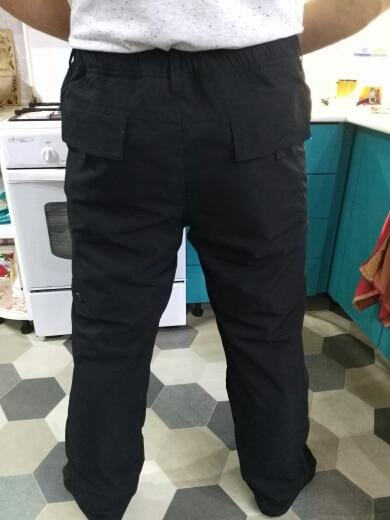pants: (60, 44, 311, 503)
